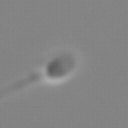normal: (1, 67, 42, 99)
